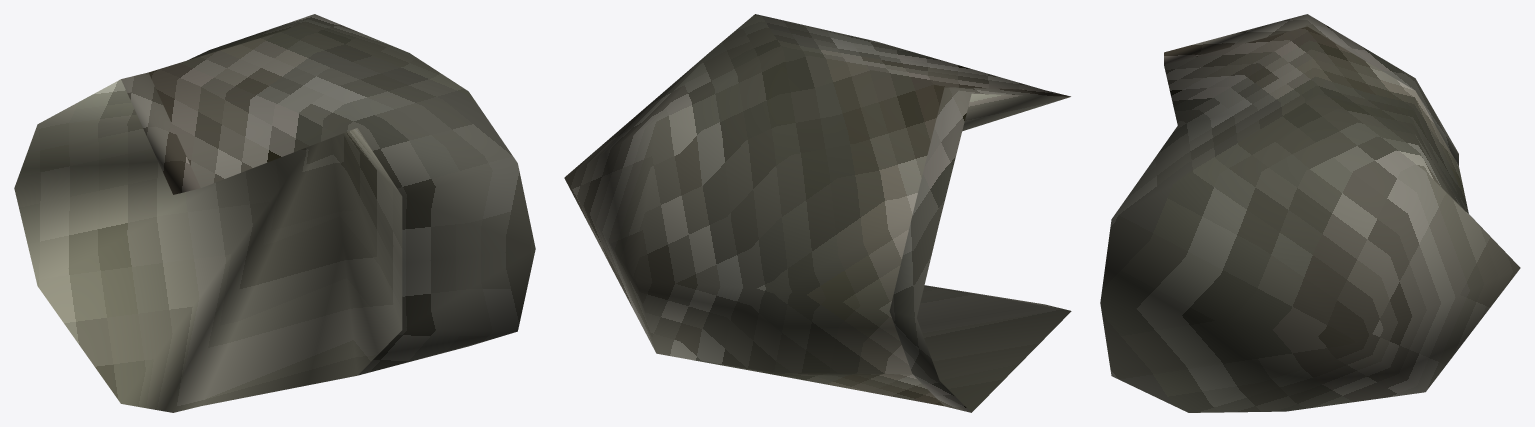
File: AW_Item0006.glb
3 views of the same model, side by side, from view 1: azimuth 30°, elevation 25°; view 2: azimuth 150°, elevation 25°; view 3: azimuth 270°, elevation 25° (orthographic). The views are drawn at different scales.
Visible parts, largest first — view 1: H_M_body_all; view 2: H_M_body_all; view 3: H_M_body_all.
Part boxes in pixels (left/top/right/bottom): H_M_body_all: left=14, top=14, right=535, bottom=412; H_M_body_all: left=564, top=14, right=1071, bottom=412; H_M_body_all: left=1100, top=14, right=1520, bottom=412.
Bounding box in the file's own units: 2.37 × 1.81 × 2.23.
Materials: 1 (1 with a texture image).
